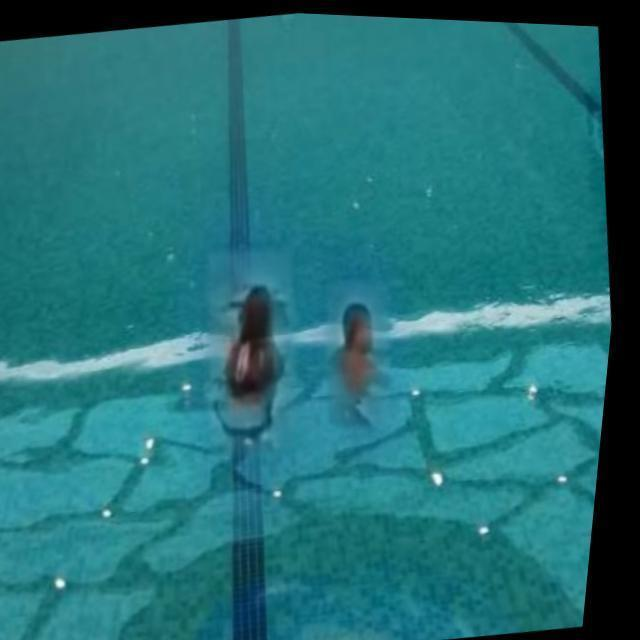swimming: (194, 260, 280, 450), (307, 268, 406, 418)
